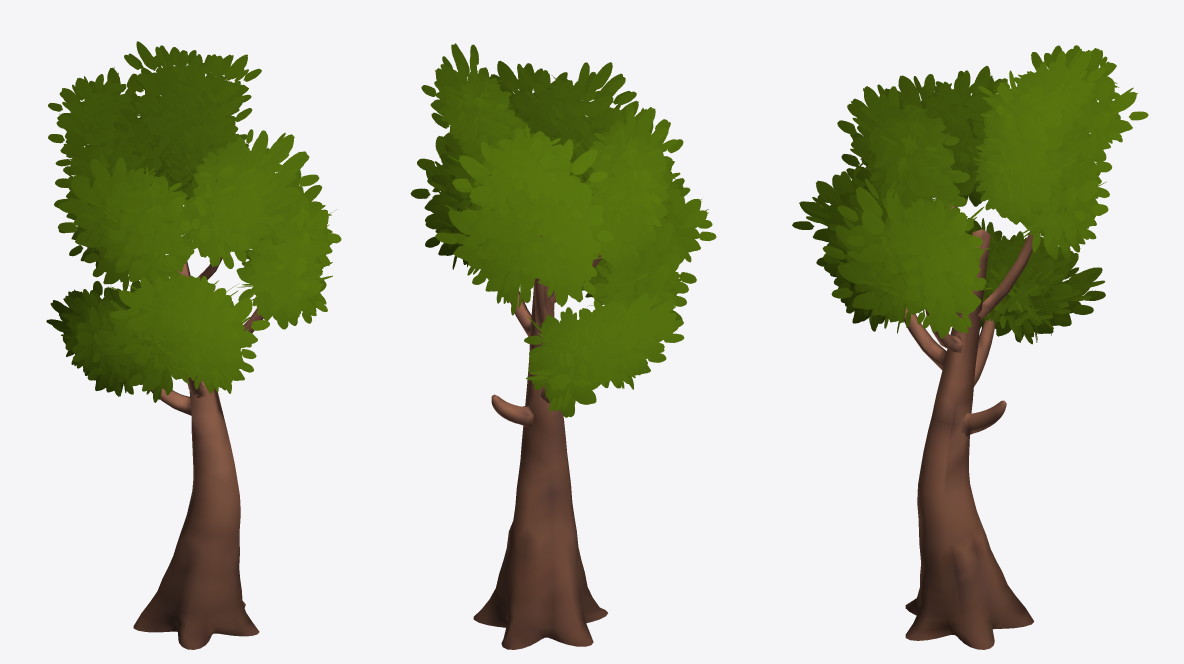
File: laubbaum_b.glb
The picture shows the model from 3 angles, left to right: view 1: azimuth 30°, elevation 25°; view 2: azimuth 150°, elevation 25°; view 3: azimuth 270°, elevation 25°; orthographic projection. The views are drawn at different scales.
Visible parts, largest first — view 1: baum; view 2: baum; view 3: baum.
Boxes of the visible parts, x1=… form: baum: x1=46, y1=41, x2=341, y2=649; baum: x1=410, y1=43, x2=716, y2=649; baum: x1=792, y1=45, x2=1148, y2=649.
Size of the model in its own units: 3.67 by 7.01 by 4.22.
2 materials, 1 textured.
